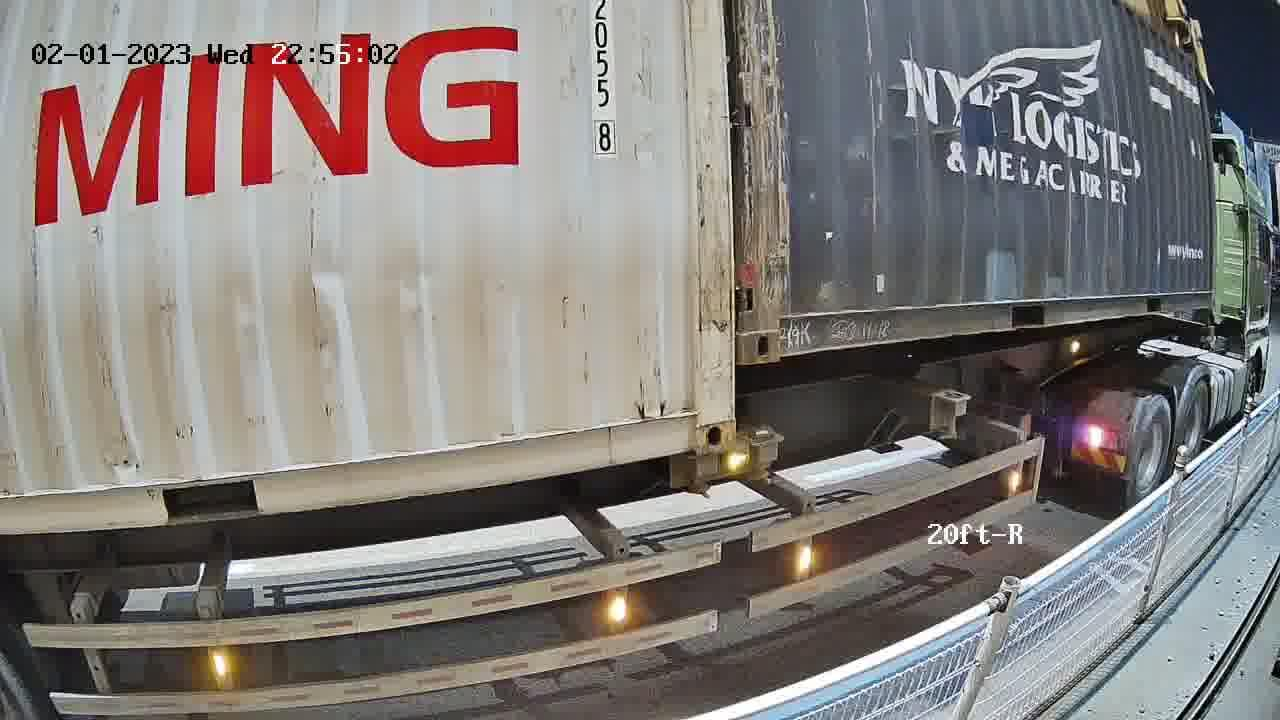Cone: (744, 423, 779, 486), (684, 452, 724, 497)
Hole_L: (741, 282, 820, 366)
Hole_R: (649, 385, 735, 459)
Tire: (1132, 401, 1172, 502), (1180, 382, 1210, 458)
